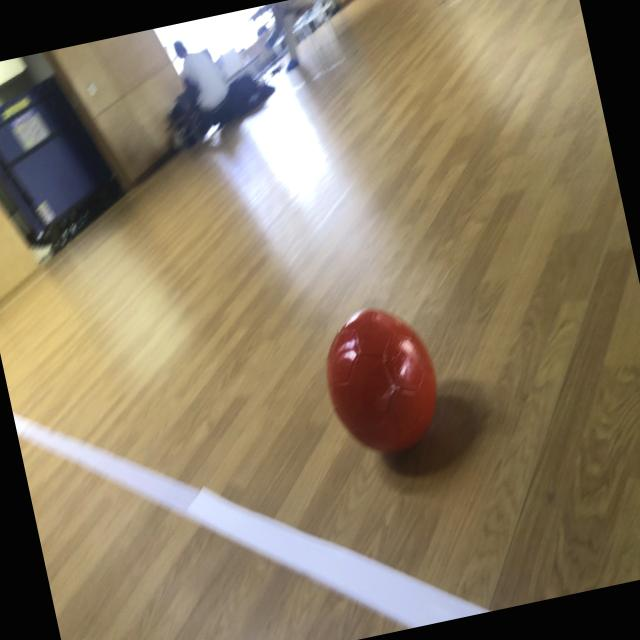red_ball: (314, 297, 447, 460)
